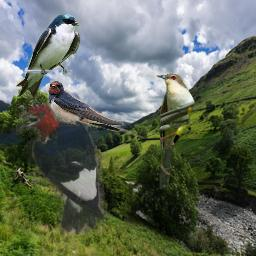Cuckoo: (156, 73, 195, 189)
Swallow: (47, 79, 146, 139), (15, 13, 80, 98)
Woodpecker: (16, 99, 111, 235)
